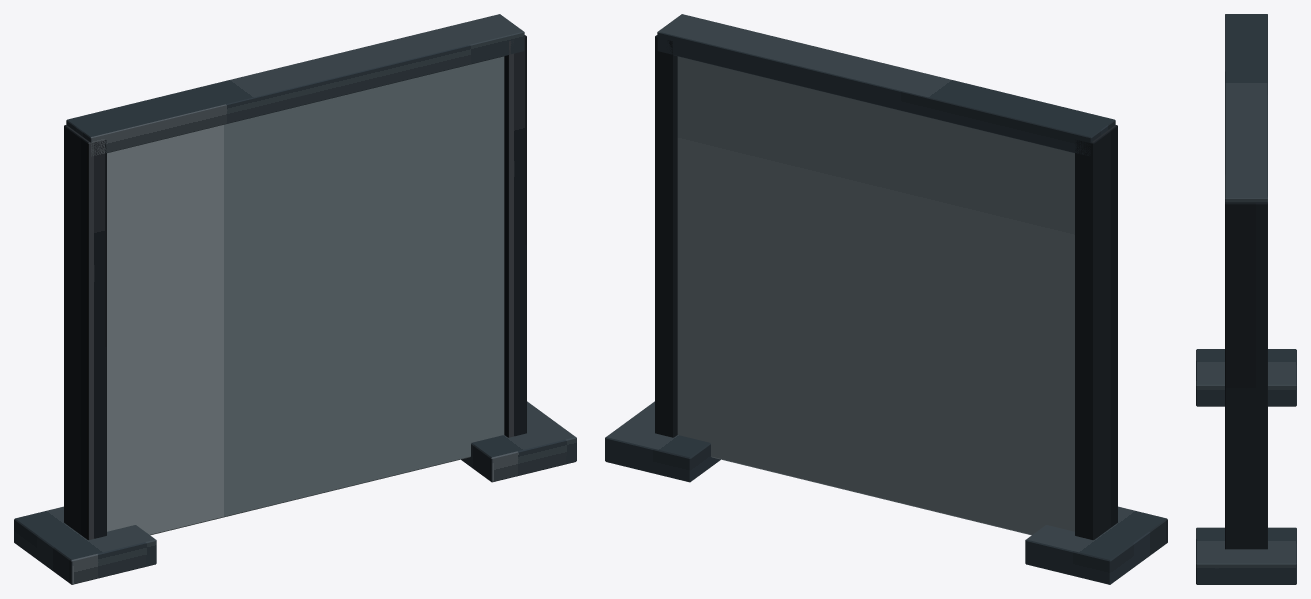
File: office_cubicle_partition_charcoal.glb
The picture shows the model from 3 angles, left to right: view 1: azimuth 30°, elevation 25°; view 2: azimuth 150°, elevation 25°; view 3: azimuth 270°, elevation 25°; orthographic projection. The views are drawn at different scales.
Visible parts, largest first — view 1: PartitionPanel, TopRail, FramePost, FramePost.001, Foot, Foot.001; view 2: PartitionPanel, TopRail, FramePost, FramePost.001, Foot, Foot.001; view 3: FramePost.001, TopRail, Foot.001, Foot.
Part boxes in pixels (x1,y1,x2,y2): PartitionPanel: [107, 56, 504, 535]; TopRail: [66, 14, 524, 156]; FramePost: [64, 125, 106, 539]; FramePost.001: [504, 35, 526, 437]; Foot: [14, 506, 156, 584]; Foot.001: [461, 401, 576, 482]; PartitionPanel: [677, 56, 1074, 535]; TopRail: [657, 14, 1115, 155]; FramePost: [1075, 125, 1117, 539]; FramePost.001: [655, 35, 677, 437]; Foot: [1025, 506, 1167, 584]; Foot.001: [605, 401, 720, 482]; FramePost.001: [1225, 202, 1267, 549]; TopRail: [1225, 14, 1267, 202]; Foot.001: [1196, 527, 1296, 584]; Foot: [1196, 349, 1296, 406].
Size of the model in its own units: 2.12 by 1.72 by 0.42.
1 material, 1 textured.
